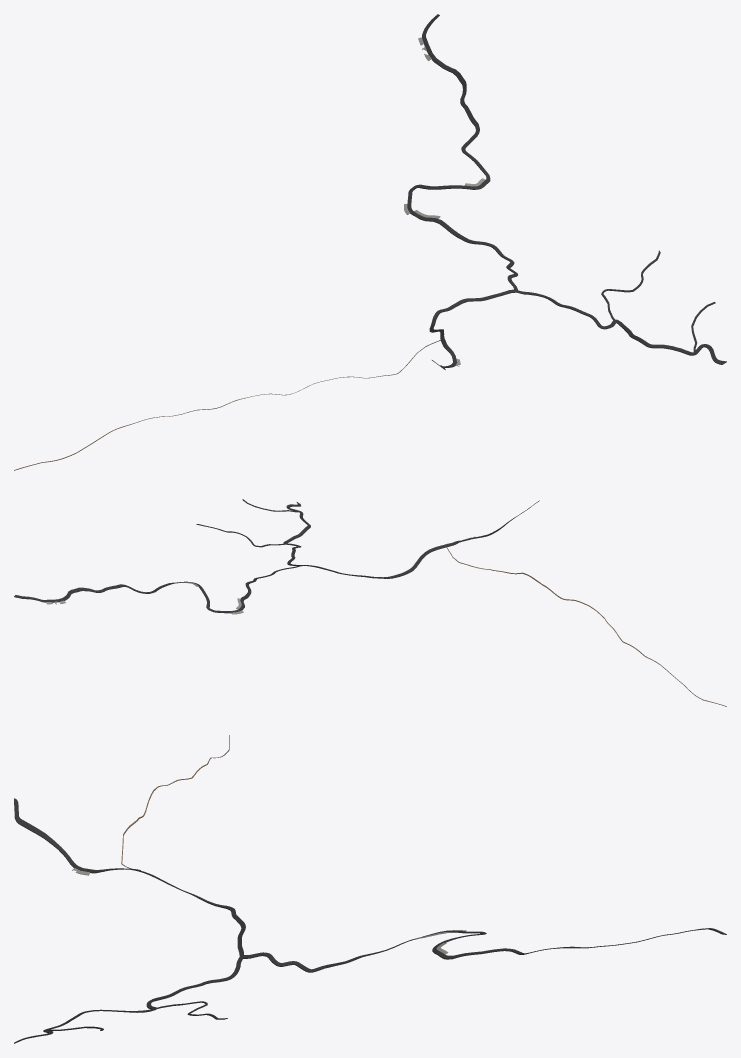
Rendered from 15-27356-14880.2ab97eca.glb.
3 views of the same model, one above another, from view 1: azimuth 30°, elevation 25°; view 2: azimuth 150°, elevation 25°; view 3: azimuth 270°, elevation 25° (orthographic). The views are drawn at different scales.
Bounding box in the file's own units: 1174 × 242 × 998.
